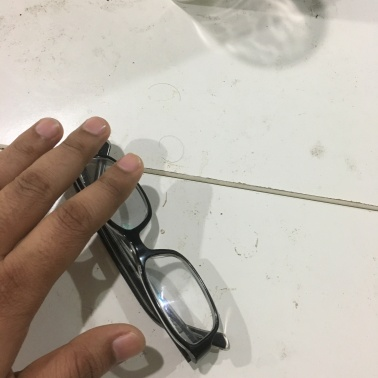glasses: (59, 142, 208, 363)
